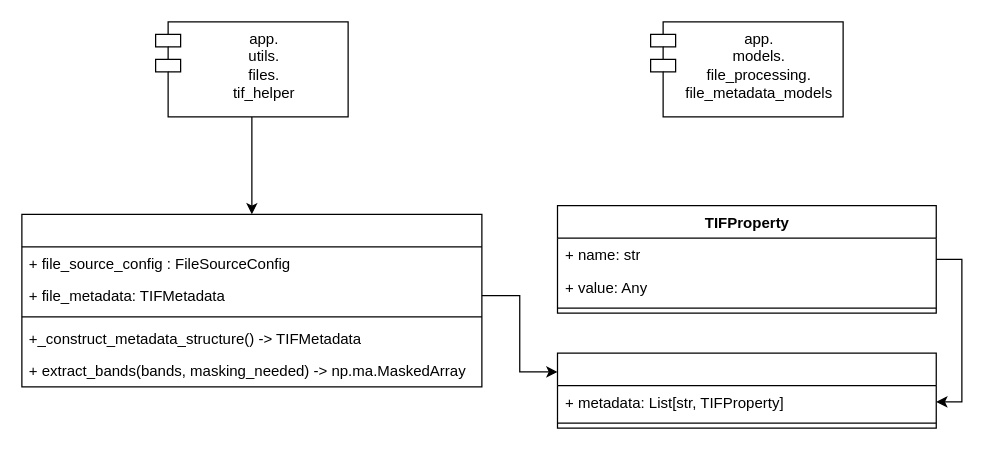
Image size: 994x450. Some labels were removed from this diagram. Each missing label, with the box of its shape:
TIFHelper: (21, 213, 482, 387)
TIFMetadata: (556, 352, 936, 428)
